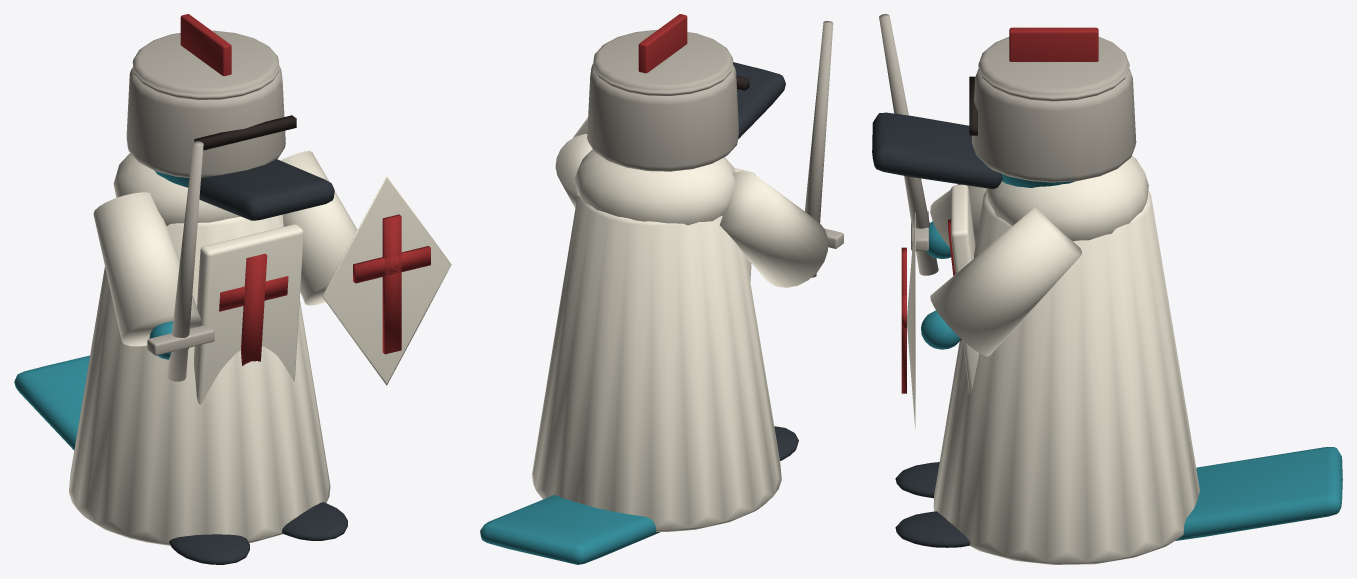
File: Crusader.fbx
3 renders of one model, left to right at view 1: azimuth 30°, elevation 25°; view 2: azimuth 150°, elevation 25°; view 3: azimuth 270°, elevation 25°, orthographic. The views are drawn at different scales.
Parts seen in each view (by area): view 1: Crusader; view 2: Crusader; view 3: Crusader.
Boxes of the visible parts, x1,y1,x2,y2 form: Crusader: (14, 14, 451, 564); Crusader: (480, 14, 843, 564); Crusader: (872, 14, 1342, 564).
Bounding box in the file's own units: 0.8061 × 1.21 × 1.05.
